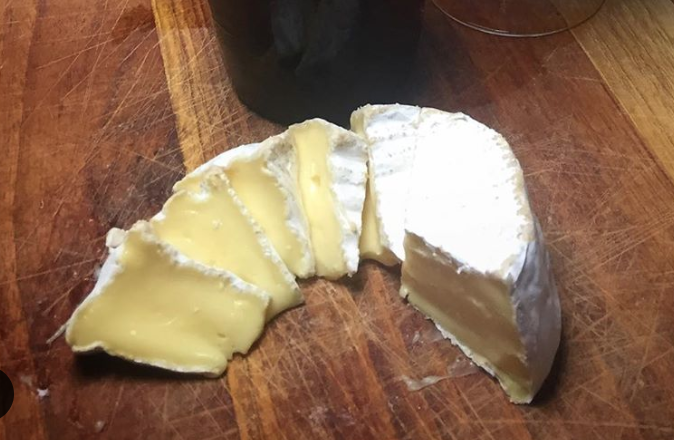camembert: (60, 98, 563, 408)
